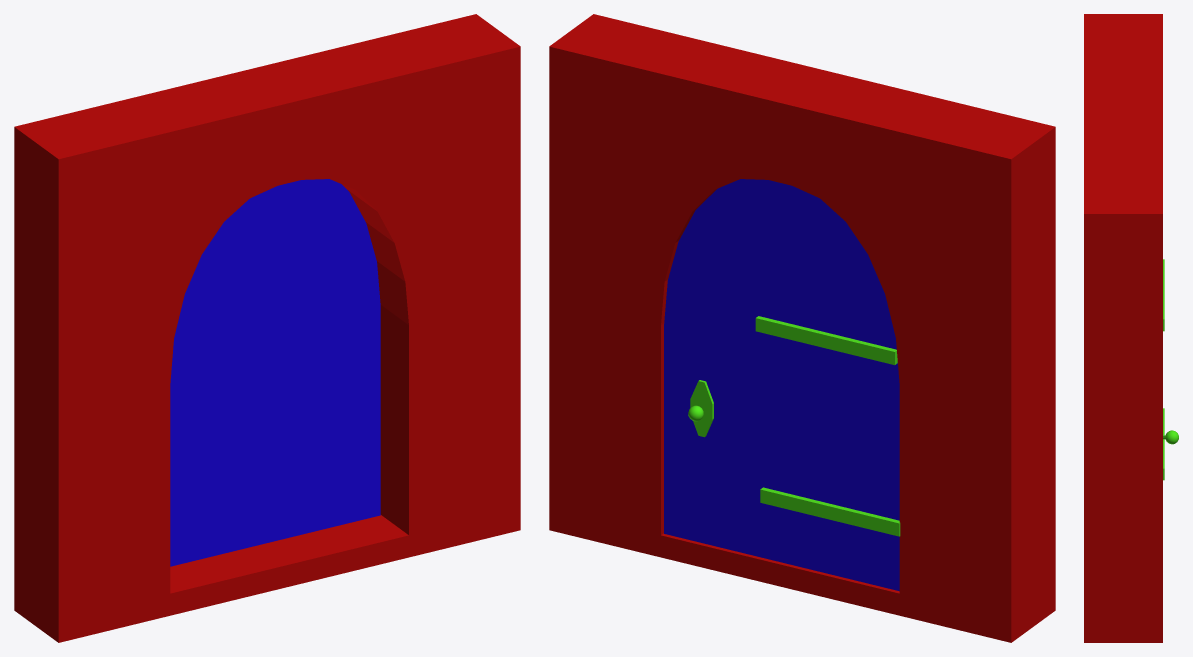
File: MurDoor2.fbx
3 renders of one model, left to right at view 1: azimuth 30°, elevation 25°; view 2: azimuth 150°, elevation 25°; view 3: azimuth 270°, elevation 25°, orthographic. The views are drawn at different scales.
Visible parts, largest first — view 1: Mur, Door; view 2: Mur, Door; view 3: Mur, Door.
Boxes of the visible parts, box(x1,y1,x2,y2) form: Mur: box(14, 14, 520, 642); Door: box(170, 179, 380, 566); Mur: box(549, 14, 1055, 642); Door: box(664, 179, 900, 591); Mur: box(1084, 14, 1162, 642); Door: box(1163, 259, 1178, 480).
Bounding box in the file's own units: 300 × 300 × 60.16.
